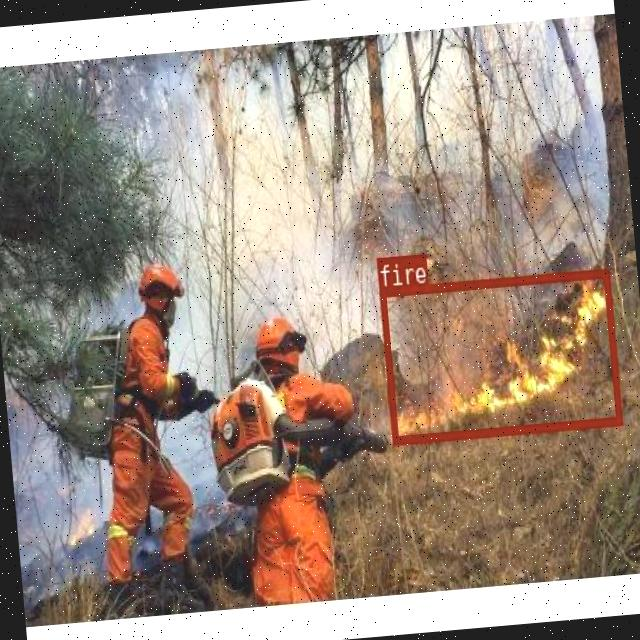fire: (378, 266, 621, 442)
